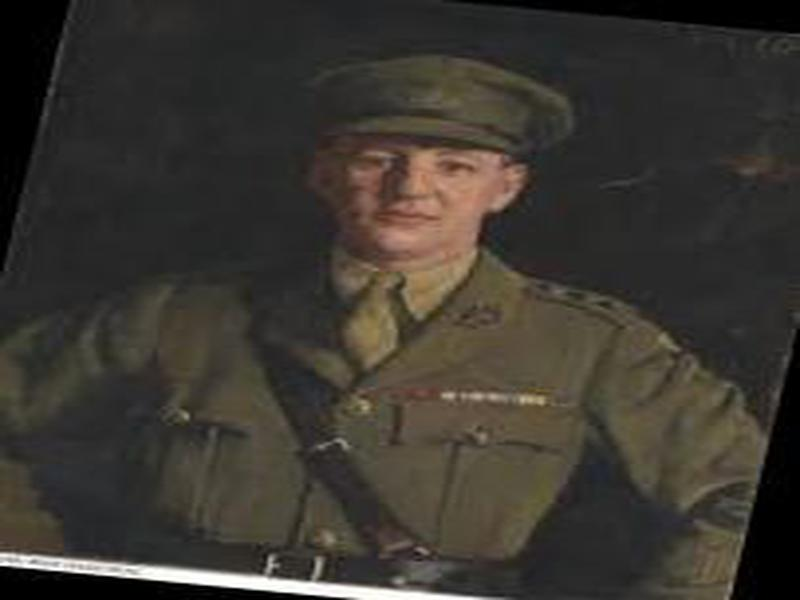without_mask: (325, 129, 499, 250)
